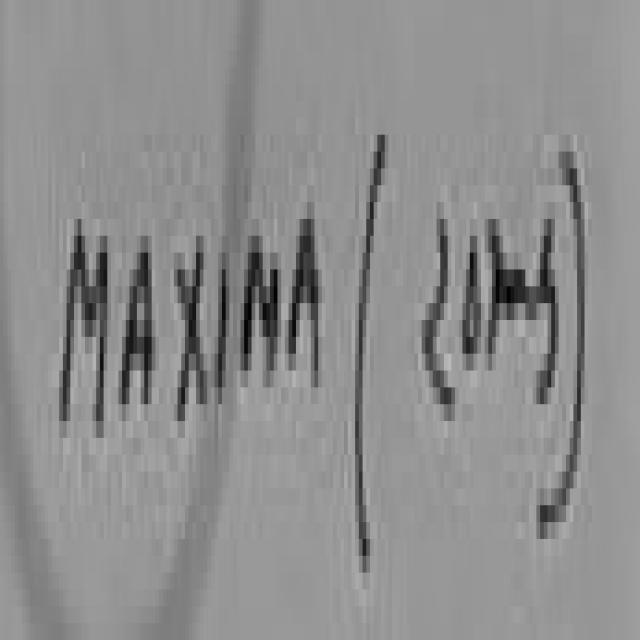0: (452, 205, 483, 398)
2: (412, 201, 461, 484)
A: (116, 178, 164, 470), (285, 130, 328, 434)
I: (208, 205, 236, 455)
M: (54, 154, 118, 497), (234, 186, 285, 440)
X: (167, 194, 214, 486)
g: (530, 162, 566, 429)
m: (482, 185, 535, 392)
